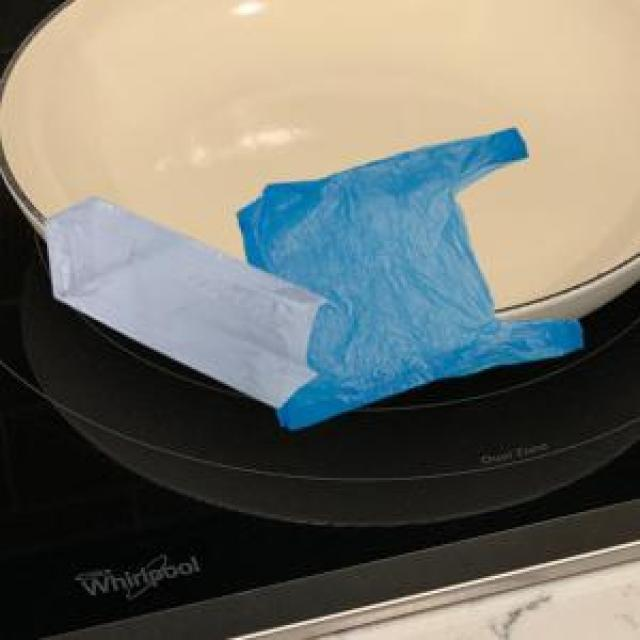waste: (239, 129, 581, 429)
